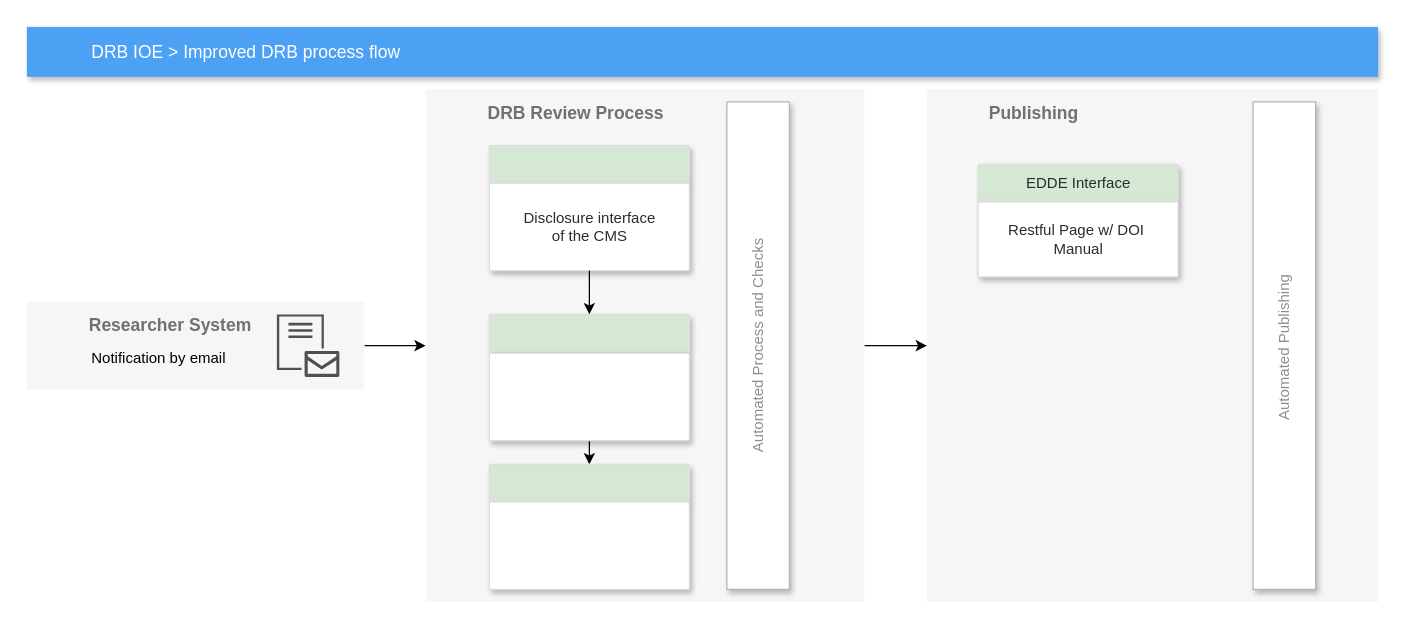
This 1406x623 diagram has some shape labels left out. The shapes that lost their labels are listed below. From the top down, each one's centre as x and y in pixels, then its label:
the point at 590,165: RDC admin perspective
the point at 590,334: DAO
the point at 590,398: Current checklist for DRB
the point at 590,484: DRB
the point at 590,547: Files to be approved Files FYI only Restricted files Too large files
